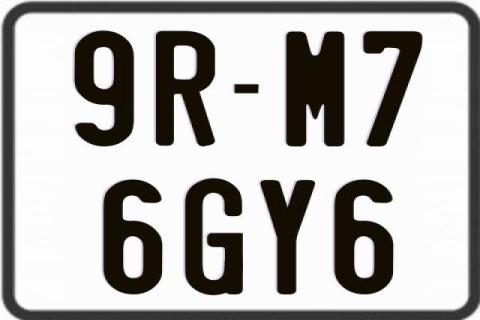0: (102, 178, 166, 294), (71, 30, 134, 146), (331, 178, 394, 294), (361, 29, 420, 144)
G: (183, 177, 243, 297)
M: (286, 31, 344, 151)
R: (154, 29, 218, 150)
Y: (260, 179, 317, 297)
